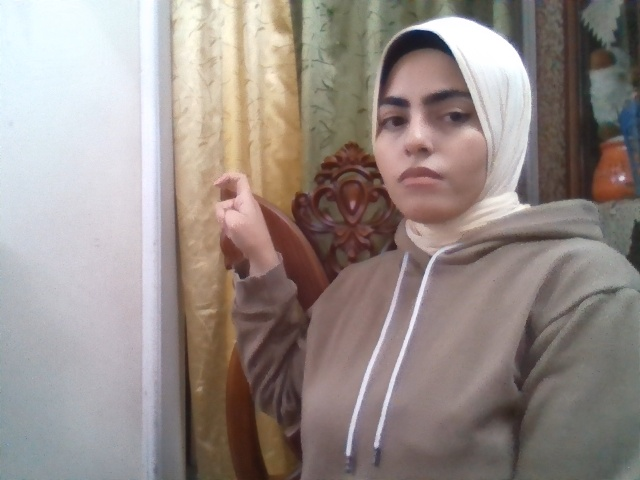X: (212, 171, 272, 260)
